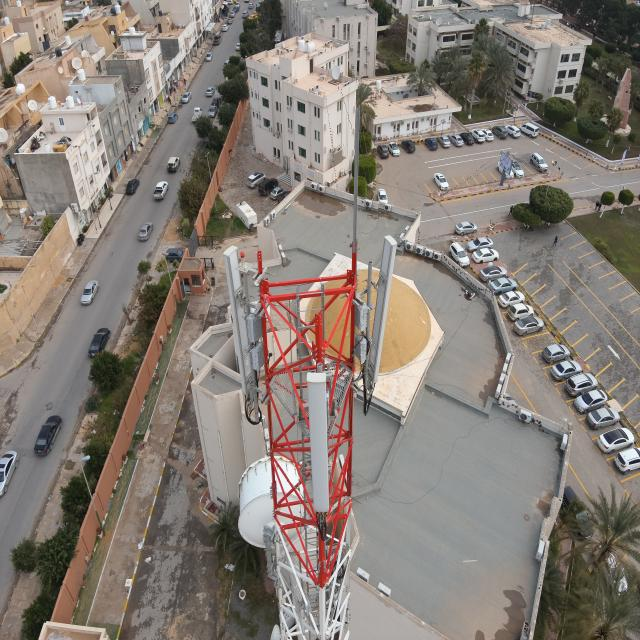Ground Based: (208, 97, 404, 640)
